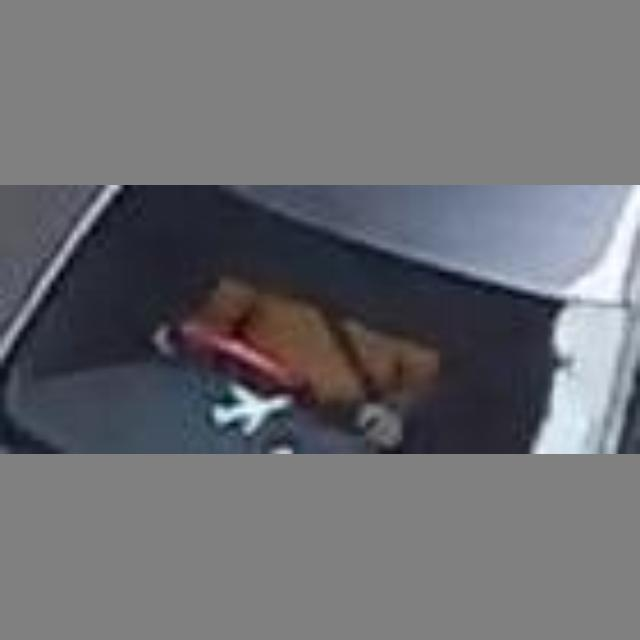pakai: (215, 249, 425, 414)
